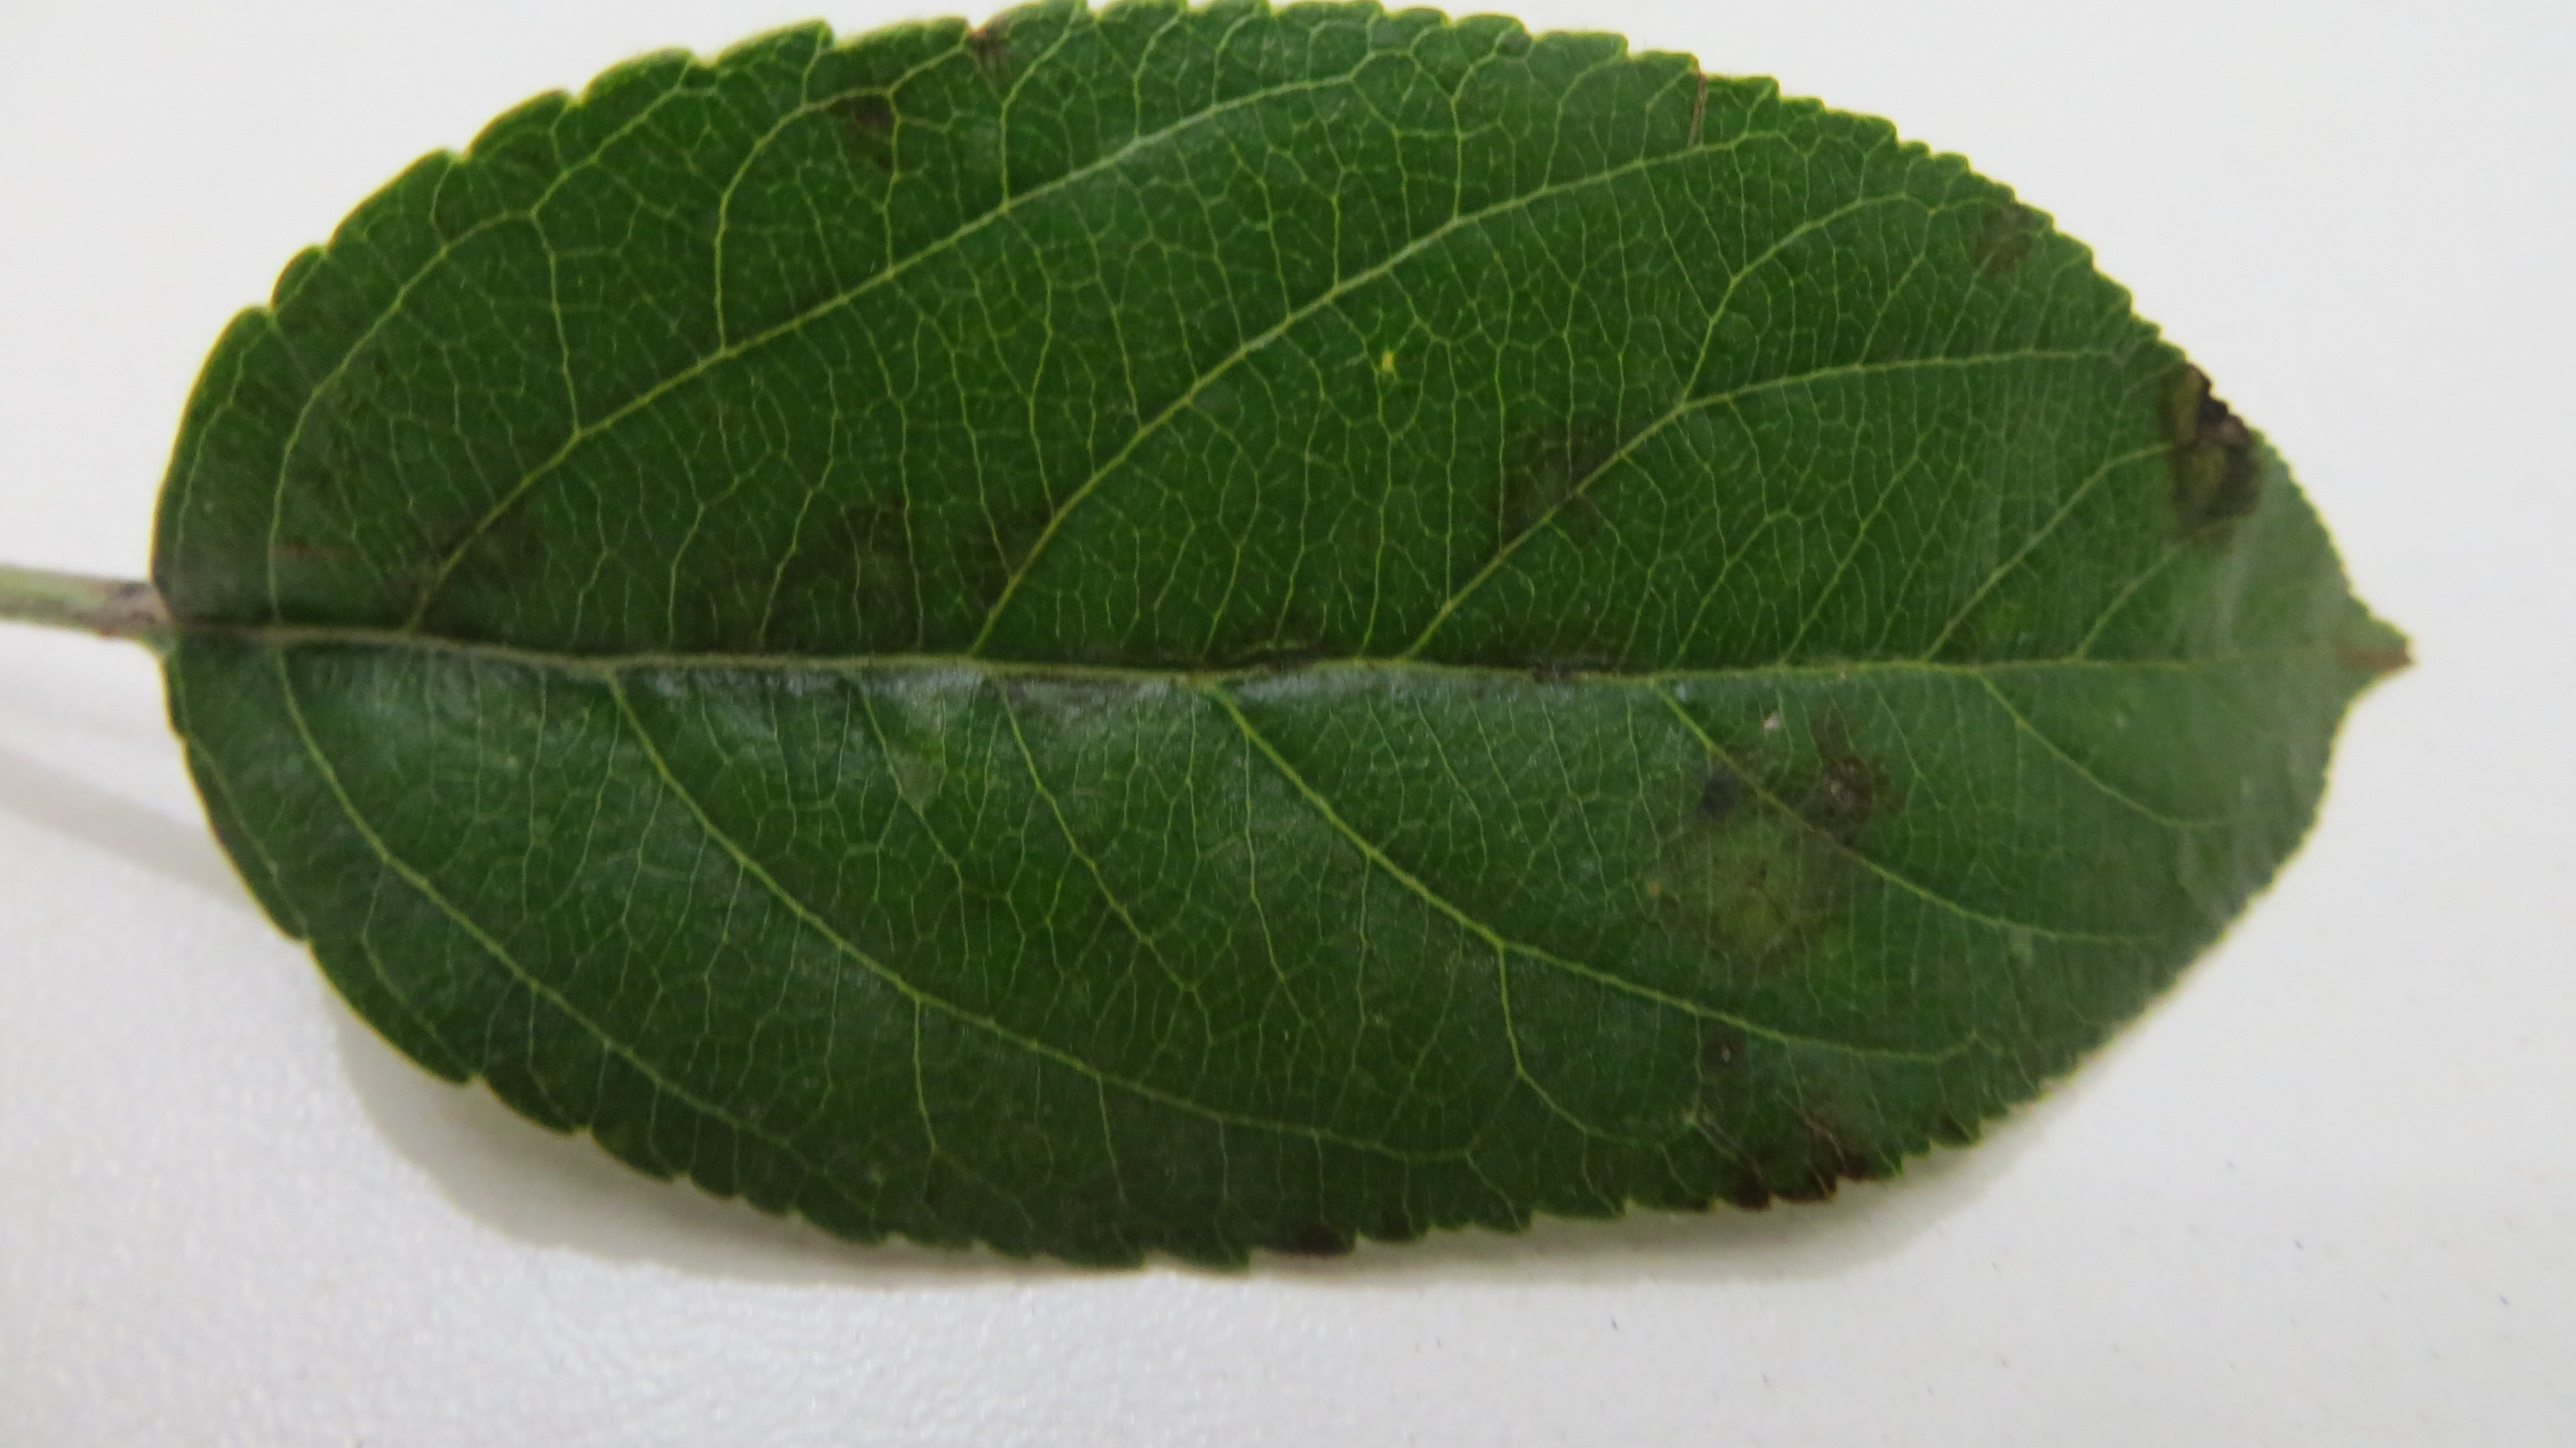sarna: (672, 543, 862, 726), (2132, 354, 2275, 556), (1463, 407, 1644, 561), (1778, 726, 1898, 928), (1221, 611, 1414, 720), (1663, 834, 1801, 986), (1019, 623, 1208, 733), (810, 487, 943, 637), (356, 570, 506, 701), (425, 458, 554, 611), (1465, 600, 1645, 708), (863, 634, 1026, 749), (191, 589, 357, 692), (1159, 1117, 1261, 1282), (954, 478, 1079, 605), (809, 71, 931, 202), (1778, 1087, 1888, 1216), (548, 621, 679, 720), (1069, 1135, 1166, 1257), (1946, 184, 2052, 296), (1675, 735, 1776, 841), (242, 504, 357, 588), (1690, 982, 1775, 1094), (1688, 1126, 1783, 1220), (938, 7, 1037, 97), (1261, 1197, 1355, 1280), (1353, 1179, 1430, 1269)
